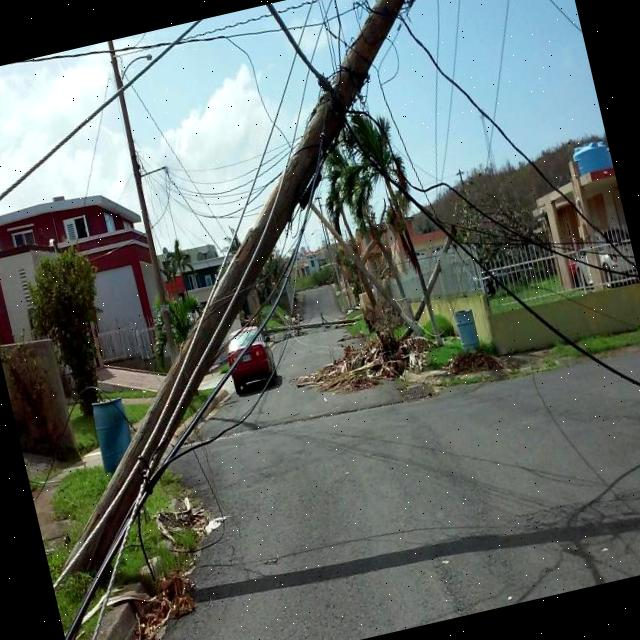Broken Pole: (63, 0, 433, 584)
